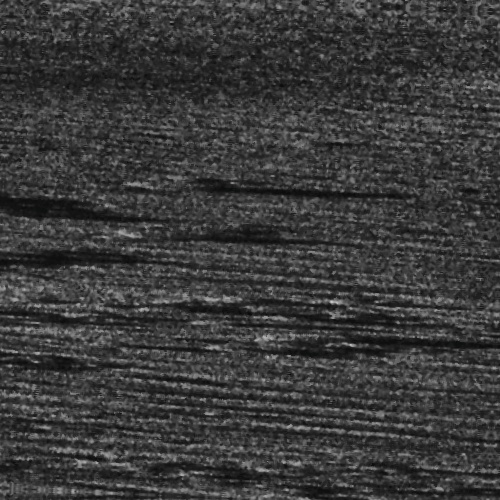object: (124, 229, 207, 240), (119, 181, 202, 190), (0, 254, 30, 259)
shadow: (166, 229, 367, 240), (160, 181, 361, 190), (0, 260, 182, 269), (0, 213, 121, 224), (0, 205, 100, 212), (4, 254, 96, 259), (0, 267, 81, 270)
